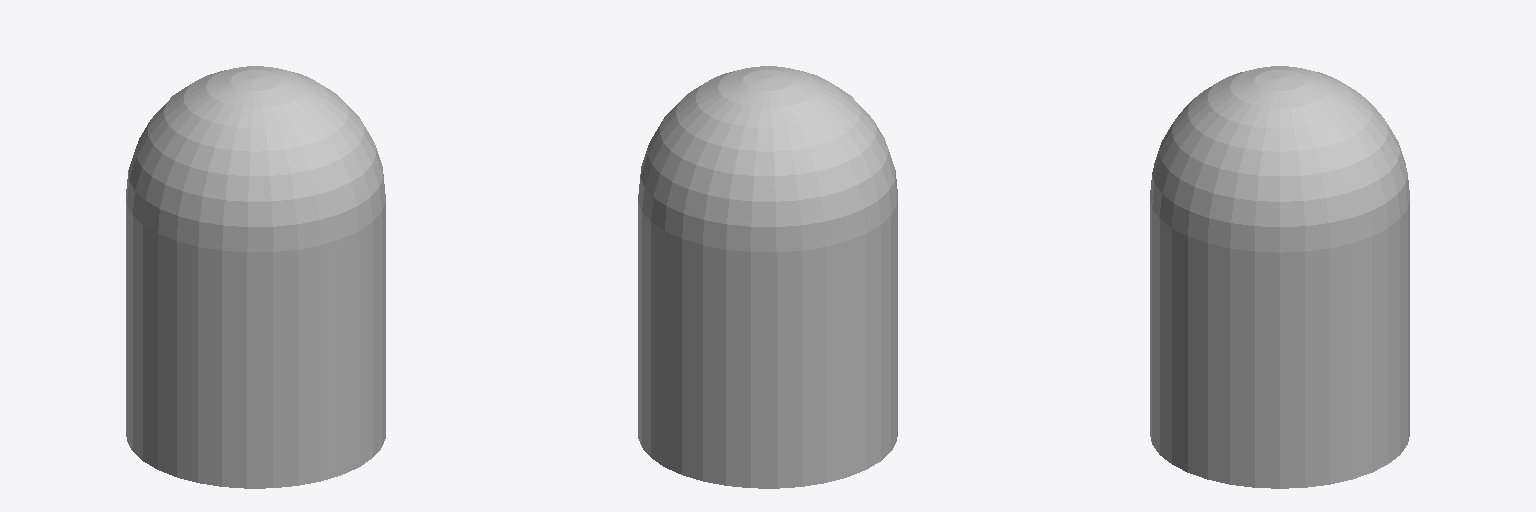
Rendered from Silo.obj.
The picture shows the model from 3 angles: view 1: azimuth 30°, elevation 25°; view 2: azimuth 150°, elevation 25°; view 3: azimuth 270°, elevation 25°; orthographic projection.
Visible parts, largest first — view 1: Sphere; view 2: Sphere; view 3: Sphere.
Boxes of the visible parts, box(x1,y1,x2,y2) form: Sphere: box(126, 66, 385, 488); Sphere: box(638, 66, 897, 488); Sphere: box(1150, 66, 1409, 488).
Bounding box in the file's own units: 2 × 3.01 × 2.